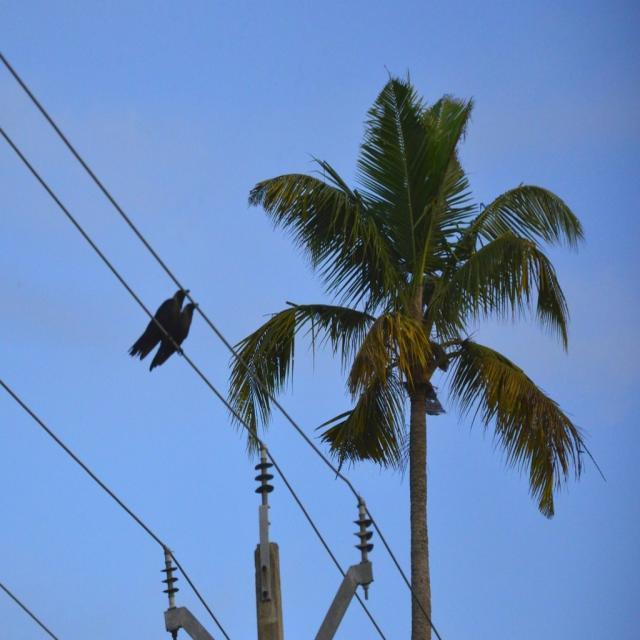bird: (126, 288, 192, 362), (147, 300, 200, 374)
